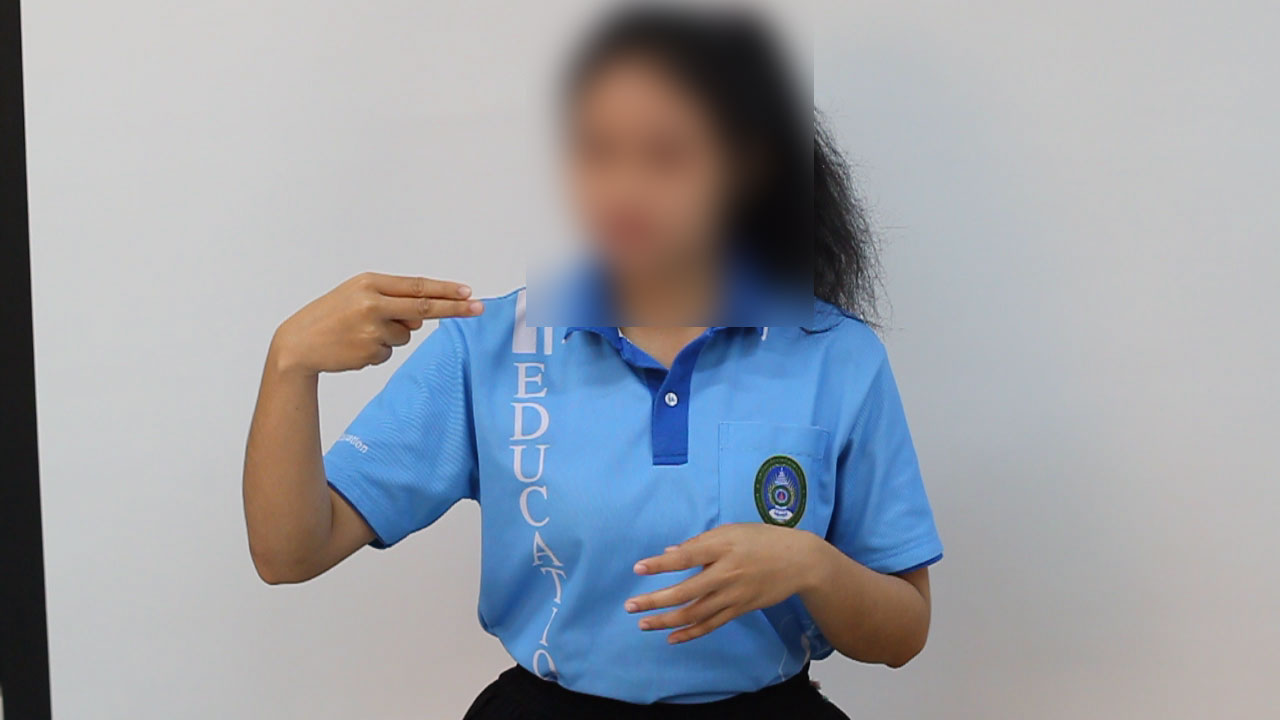hor: (252, 257, 496, 384)
